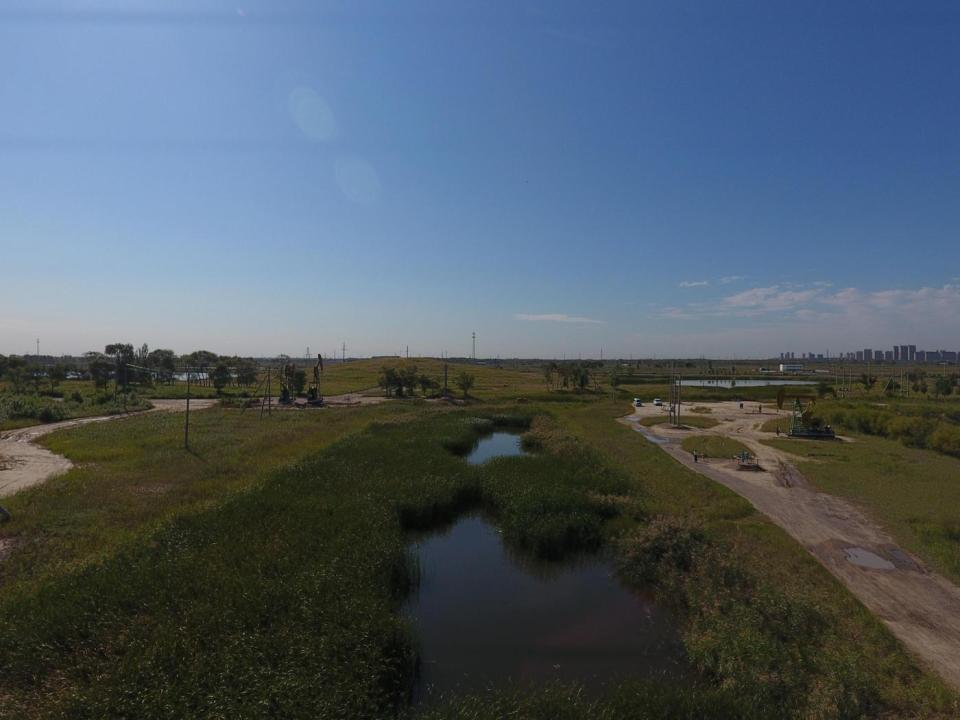car: (653, 398, 663, 406)
van: (633, 398, 642, 406)
